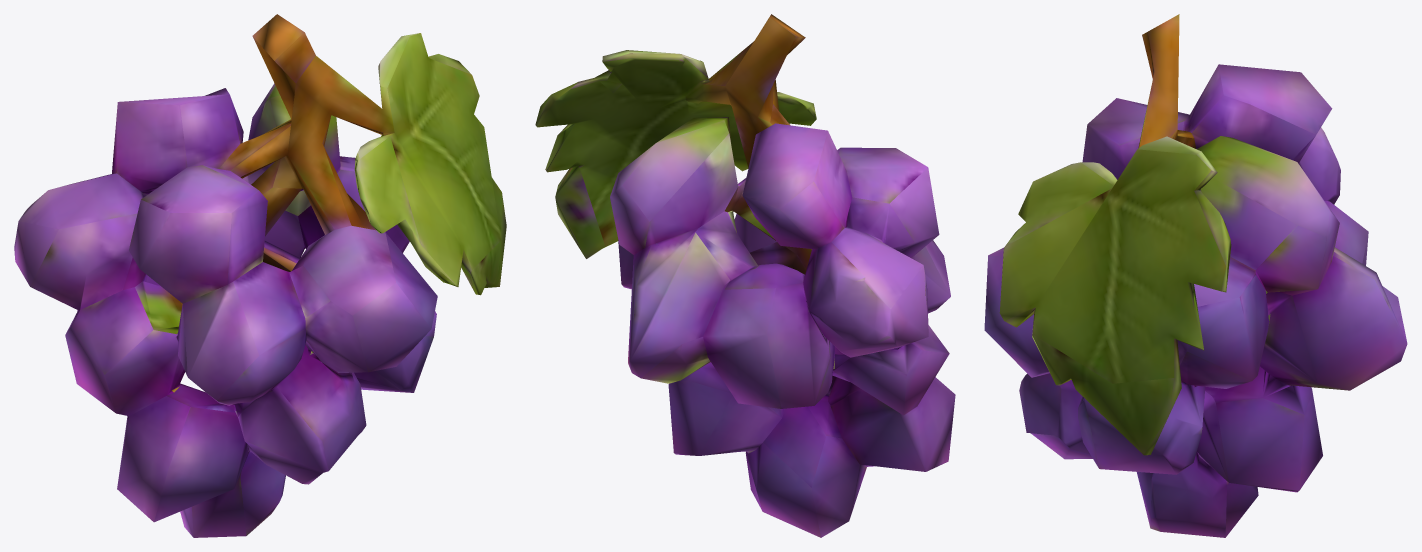
The model's file is grape.glb.
3 views of the same model, side by side, from view 1: azimuth 30°, elevation 25°; view 2: azimuth 150°, elevation 25°; view 3: azimuth 270°, elevation 25° (orthographic). The views are drawn at different scales.
Visible parts, largest first — view 1: textured_mesh.obj; view 2: textured_mesh.obj; view 3: textured_mesh.obj.
Boxes of the visible parts, x1,y1,x2,y2 form: textured_mesh.obj: [14, 14, 506, 537]; textured_mesh.obj: [535, 14, 955, 537]; textured_mesh.obj: [984, 14, 1407, 537].
Size of what is drawn, in the model's own units: 0.2261 by 0.2553 by 0.1792.
1 material, 1 textured.
